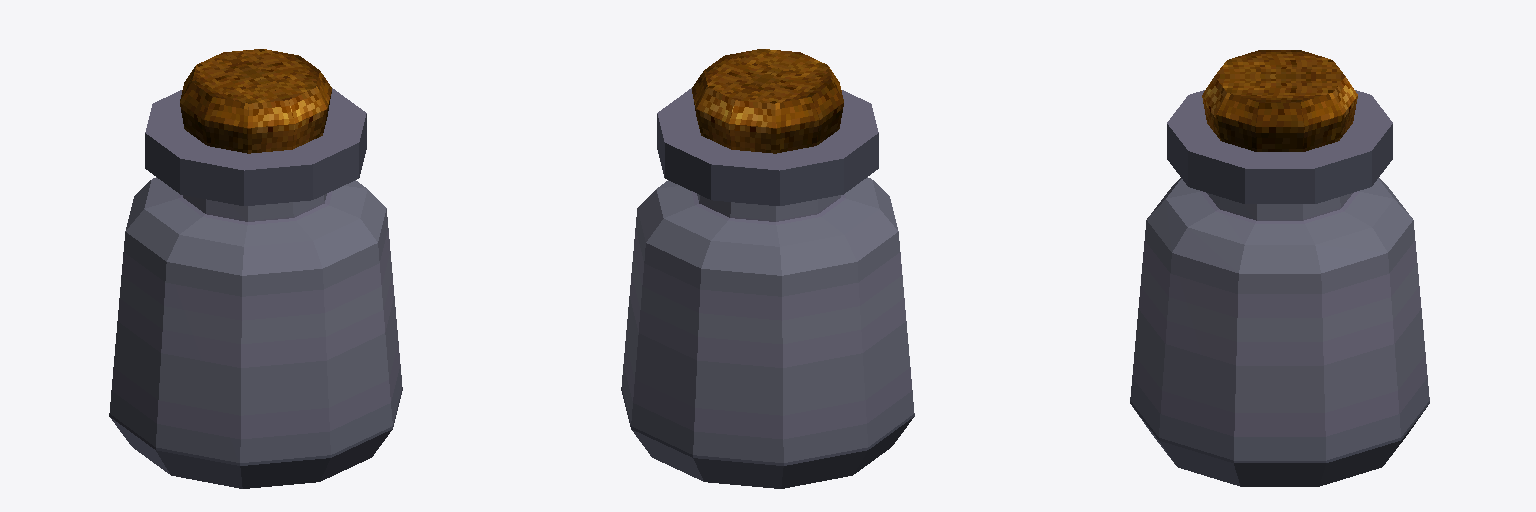
The picture shows the model from 3 angles: view 1: azimuth 30°, elevation 25°; view 2: azimuth 150°, elevation 25°; view 3: azimuth 270°, elevation 25°; orthographic projection.
Visible parts, largest first — view 1: bottle_bottle_geom-00CA490A, bottle_cap_geom-02C1248F; view 2: bottle_bottle_geom-00CA490A, bottle_cap_geom-02C1248F; view 3: bottle_bottle_geom-00CA490A, bottle_cap_geom-02C1248F.
Boxes of the visible parts, <box> form: bottle_bottle_geom-00CA490A: <box>109,88,402,488</box>; bottle_cap_geom-02C1248F: <box>180,49,331,153</box>; bottle_bottle_geom-00CA490A: <box>621,88,914,488</box>; bottle_cap_geom-02C1248F: <box>692,49,843,153</box>; bottle_bottle_geom-00CA490A: <box>1130,90,1429,486</box>; bottle_cap_geom-02C1248F: <box>1202,50,1357,151</box>.
Size of the model in its own units: 0.4741 by 0.6588 by 0.4984.
2 materials, 1 textured.